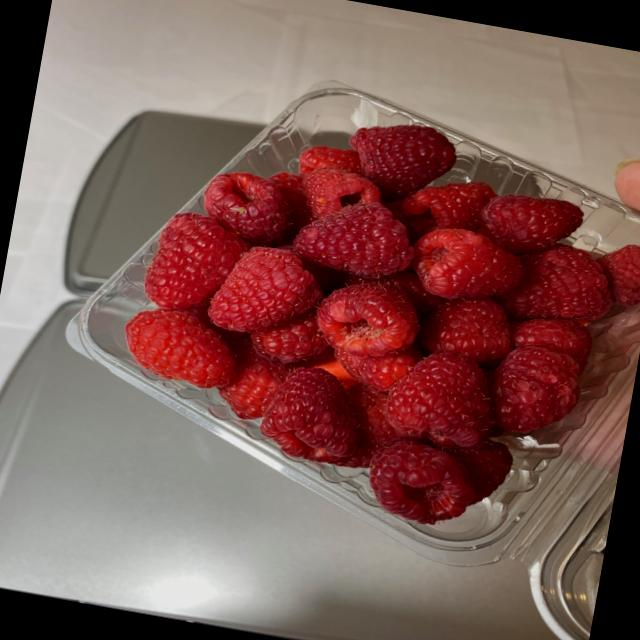raspberries: (128, 136, 640, 492)
